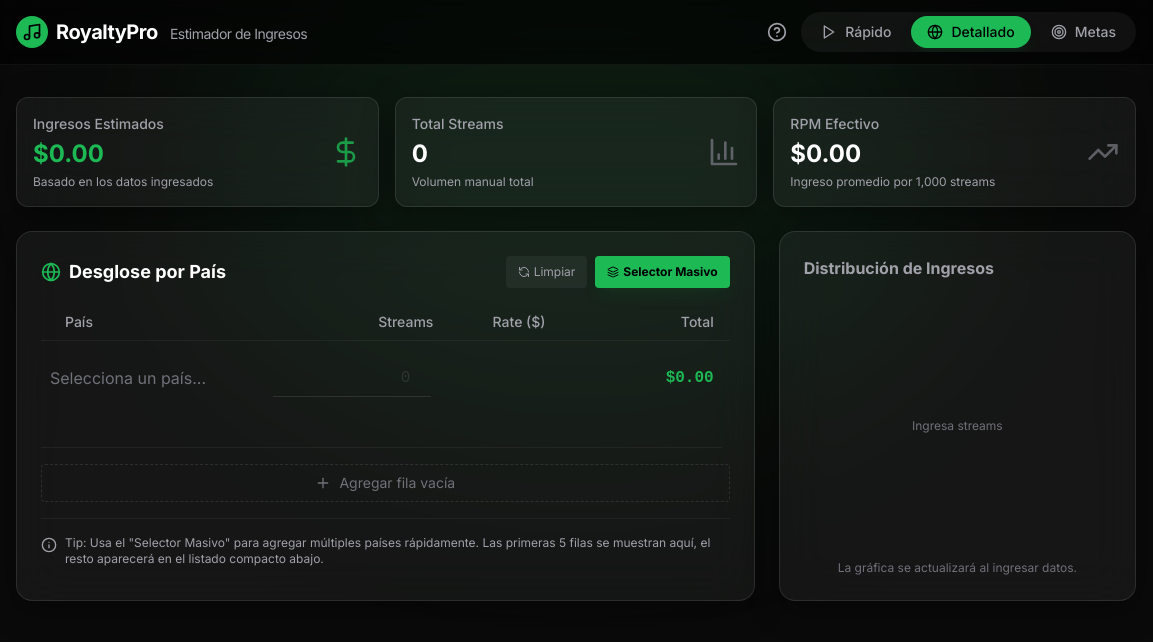
Test: App › should switch to GoalCalculator when clicking "Metas"
This screenshot has width=1153, height=642.
Click the button "Metas".
click(1083, 32)  # box [1035,16,1132,48]
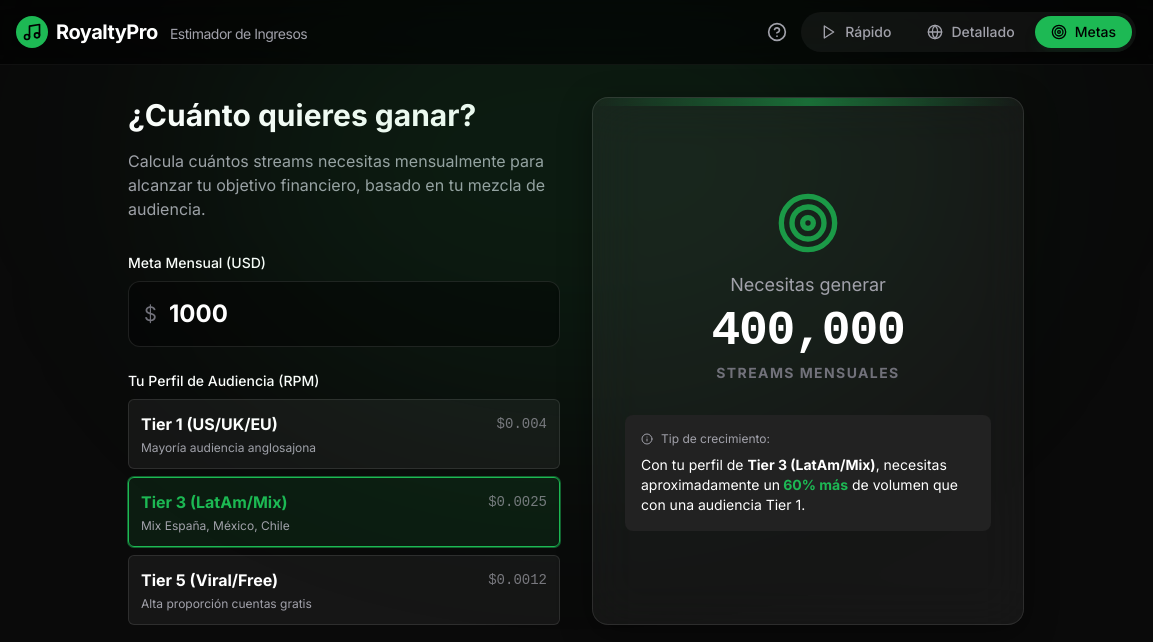
Expected: the heading "¿Cuánto quieres ganar?" is shown, [128,97,476,133]
